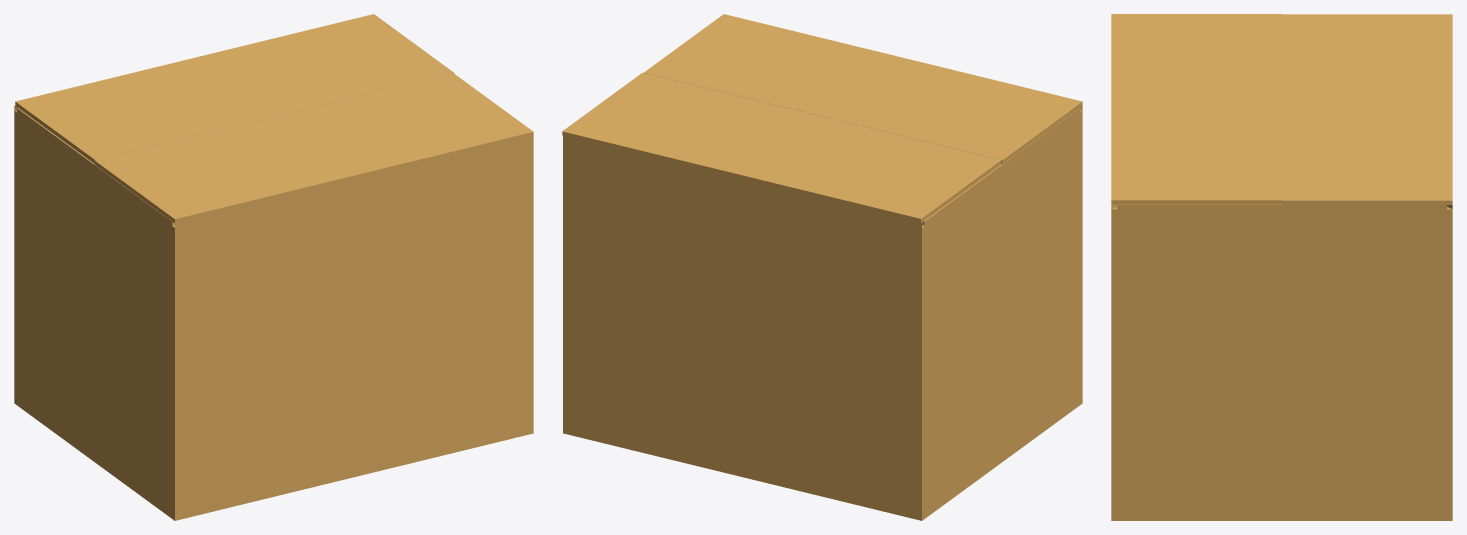
Rendered from Guest_room_cardboard_boxes.fbx.
3 views of the same model, side by side, from view 1: azimuth 30°, elevation 25°; view 2: azimuth 150°, elevation 25°; view 3: azimuth 270°, elevation 25° (orthographic). The views are drawn at different scales.
Parts seen in each view (by area): view 1: small_cardboard_box.001, other_big_flap.003, other_big_flap.001, other_big_flap.004; view 2: small_cardboard_box.001, other_big_flap.001, other_big_flap.003, other_big_flap.004; view 3: small_cardboard_box.001, other_big_flap.001, other_big_flap.003, other_big_flap.002.
Part boxes in pixels (<box>): small_cardboard_box.001: <box>14,106,533,520</box>; other_big_flap.003: <box>94,73,533,223</box>; other_big_flap.001: <box>15,14,454,163</box>; other_big_flap.004: <box>17,108,174,225</box>; small_cardboard_box.001: <box>563,106,1082,520</box>; other_big_flap.001: <box>562,72,1001,222</box>; other_big_flap.003: <box>644,14,1082,164</box>; other_big_flap.004: <box>922,108,1079,225</box>; small_cardboard_box.001: <box>1111,204,1452,520</box>; other_big_flap.001: <box>1282,14,1452,204</box>; other_big_flap.003: <box>1111,14,1281,204</box>; other_big_flap.002: <box>1117,204,1446,209</box>.
Size of the model in its own units: 84.66 by 67.86 by 65.49.
